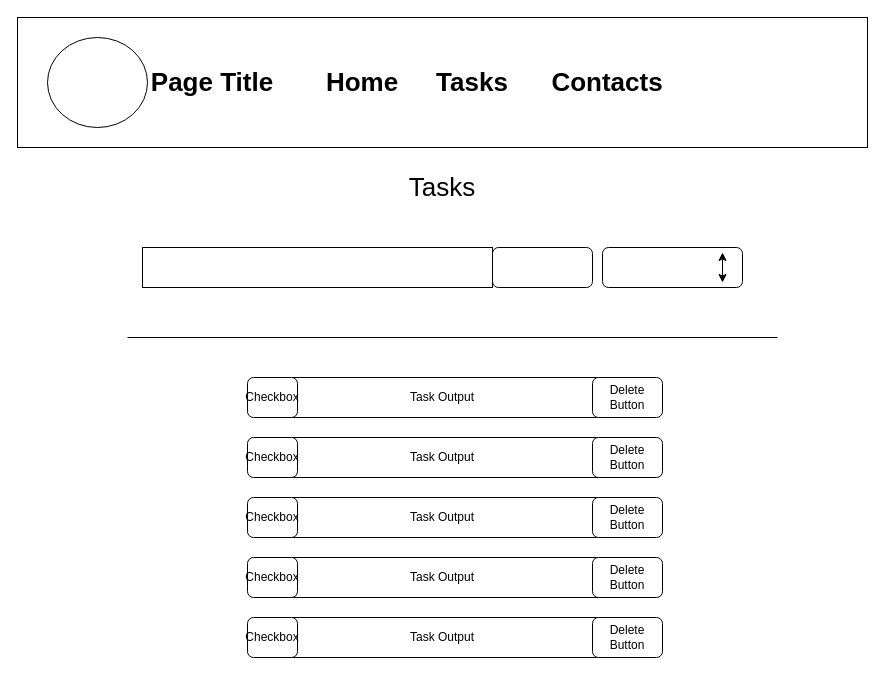
The diagram is 885 pixels wide and 675 high, and some of its shapes have lost their labels. The shapes that lost their labels are listed below. From the top down, each one's centre as x and y in pixels, then its label:
(x=97, y=82): Logo
(x=317, y=267): Task Input
(x=542, y=267): Add Task Button
(x=672, y=267): Filter Options
